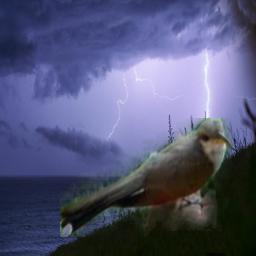Cuckoo: (60, 118, 232, 237)
